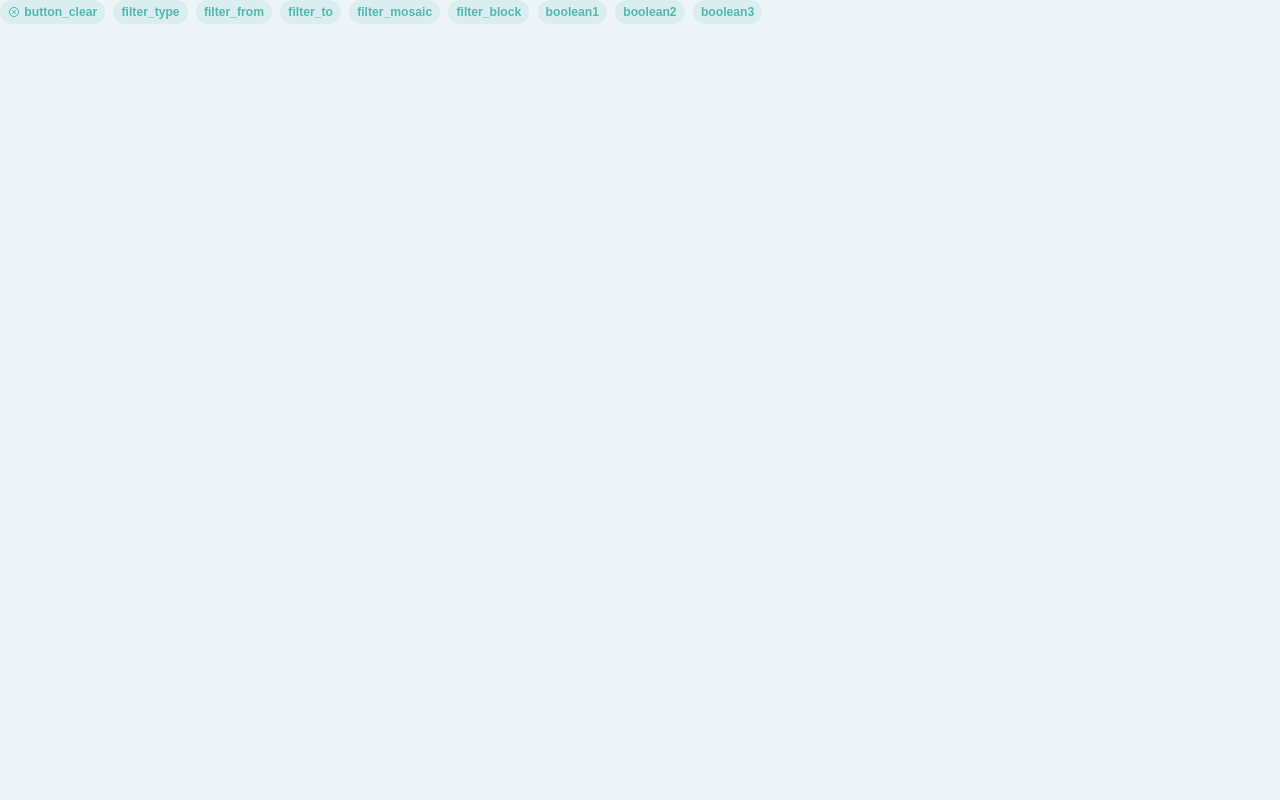
Test: Filter › filter options › renders mosaic options
Click the button "filter_mosaic".
click(395, 12)  # box [349,0,440,24]
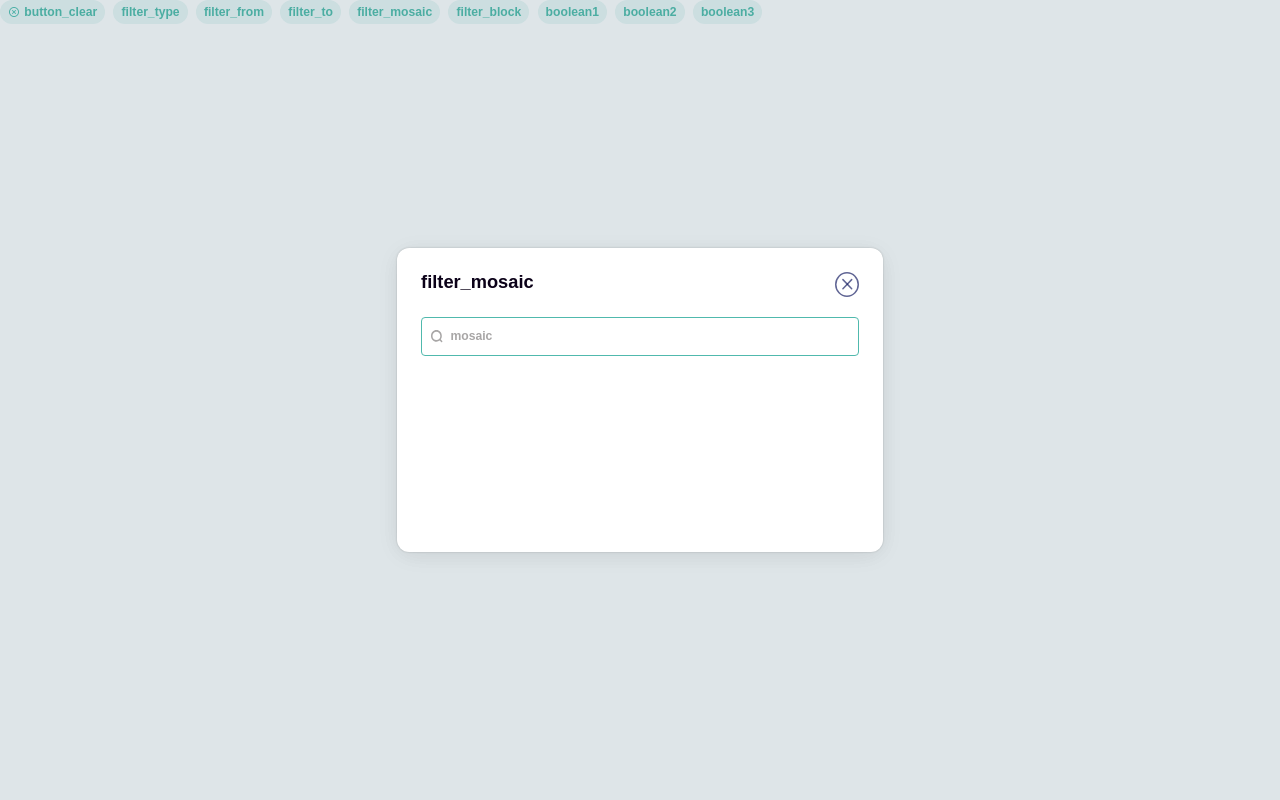
Result: the dialog is shown
Type "search-text-value" into the search field.
click(649, 337); type("search-text-value")  # box [448,328,850,346]
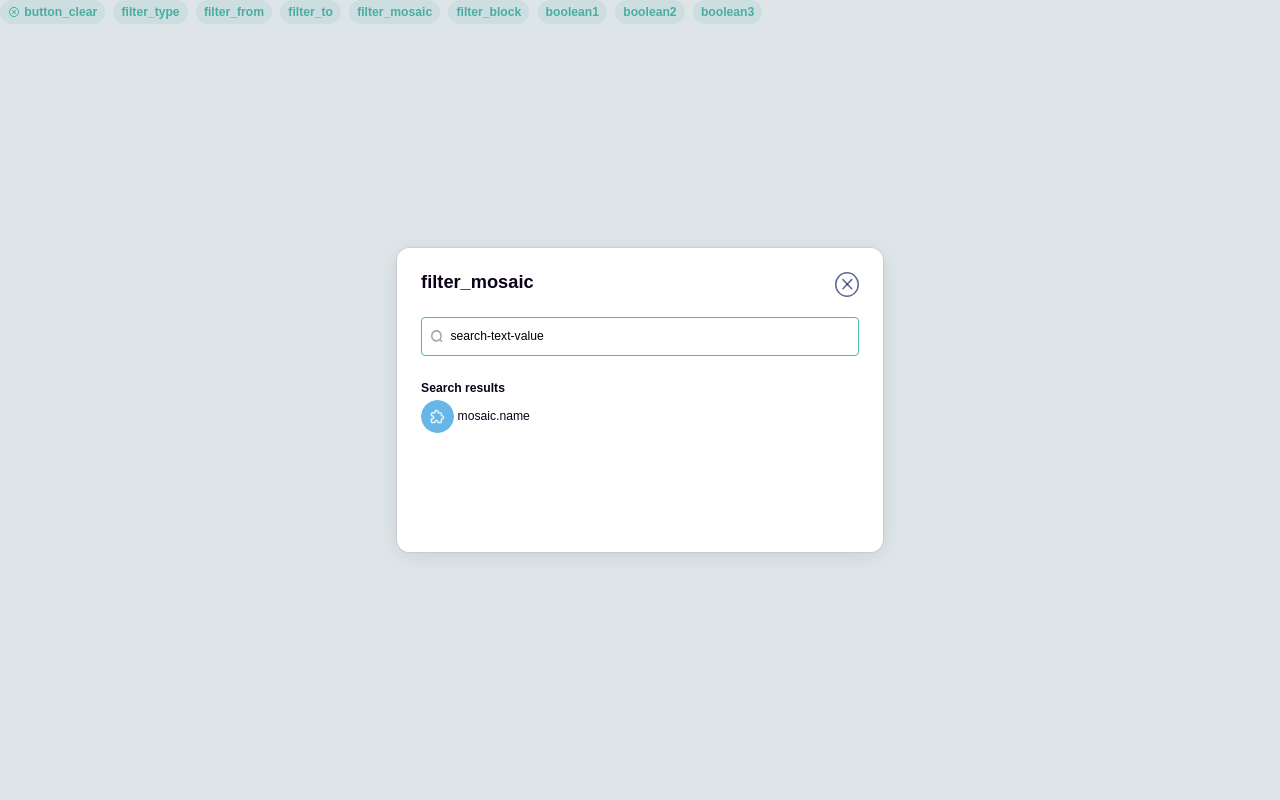
Result: the text "mosaic.name" is shown at [458,408,530,425]
Click the link "mosaic.name".
click(476, 416)  # box [421,400,530,433]
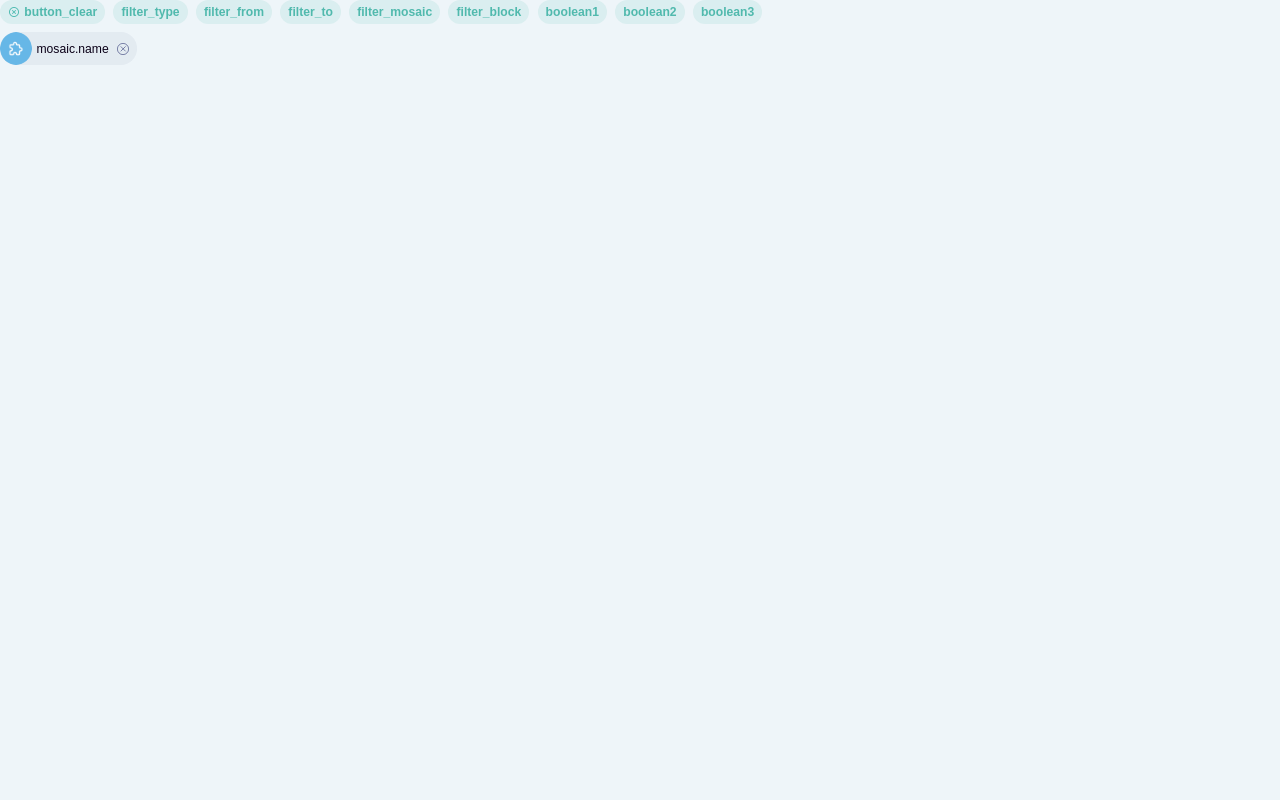
Result: the text "mosaic.name" is shown at [36,40,109,57]
Result: the dialog is gone
